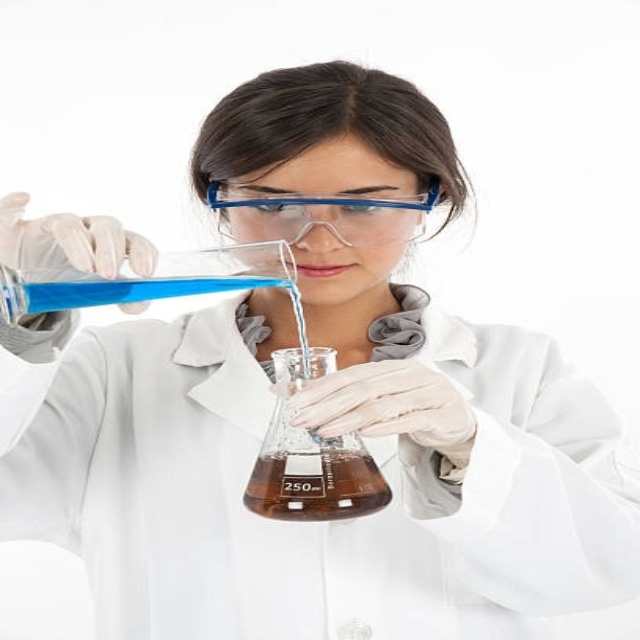Gafas: (199, 180, 445, 247)
Guantes: (3, 188, 163, 327), (279, 357, 477, 462)
Sin_mascara: (293, 254, 365, 298)
